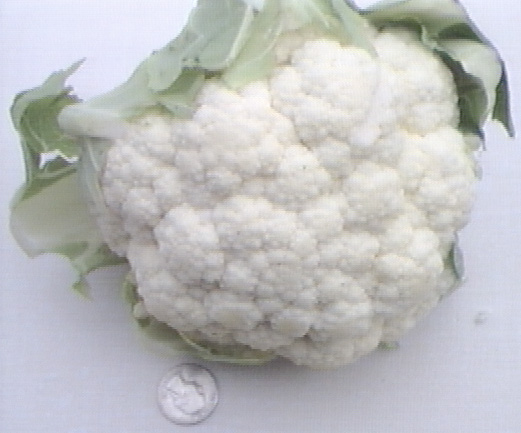cauliflower: (99, 27, 484, 366)
